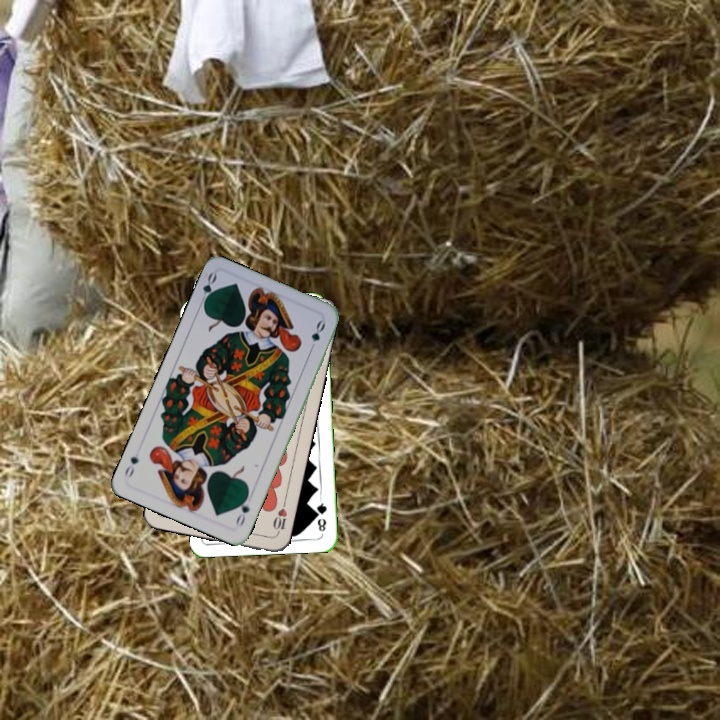G8: (312, 495, 329, 534)
GO: (195, 268, 219, 309), (232, 490, 252, 529)
H10: (269, 498, 290, 538)
